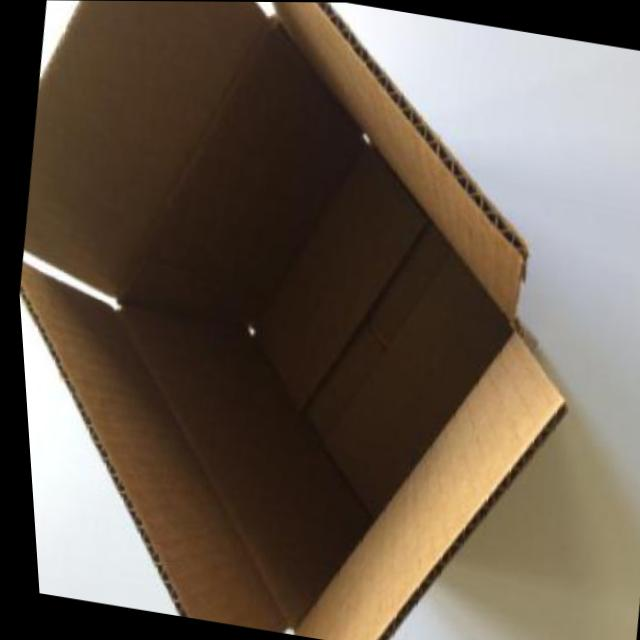box: (0, 0, 636, 640)
